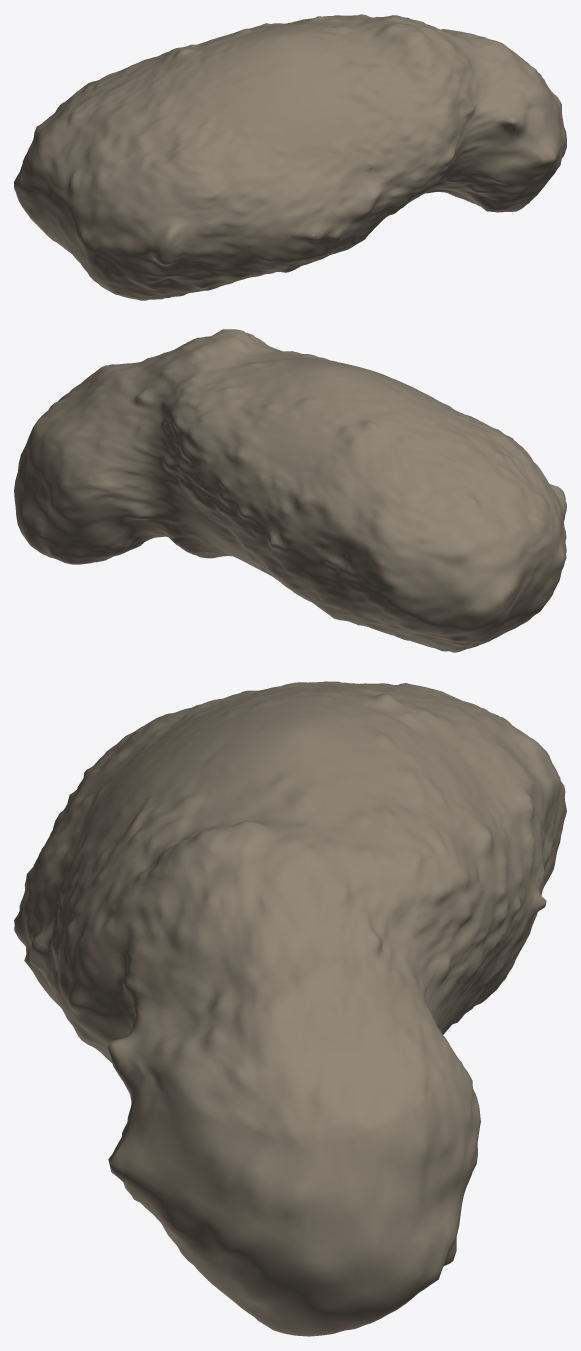
Rendered from itokawa.glb.
3 renders of one model, top to bottom at view 1: azimuth 30°, elevation 25°; view 2: azimuth 150°, elevation 25°; view 3: azimuth 270°, elevation 25°, orthographic. The views are drawn at different scales.
Visible parts, largest first — view 1: itokawa; view 2: itokawa; view 3: itokawa.
Part boxes in pixels (left/top/right/bottom): itokawa: left=14, top=14, right=566, bottom=300; itokawa: left=14, top=329, right=566, bottom=652; itokawa: left=14, top=681, right=566, bottom=1336.
Bounding box in the file's own units: 0.5617 × 0.2434 × 0.3051.
